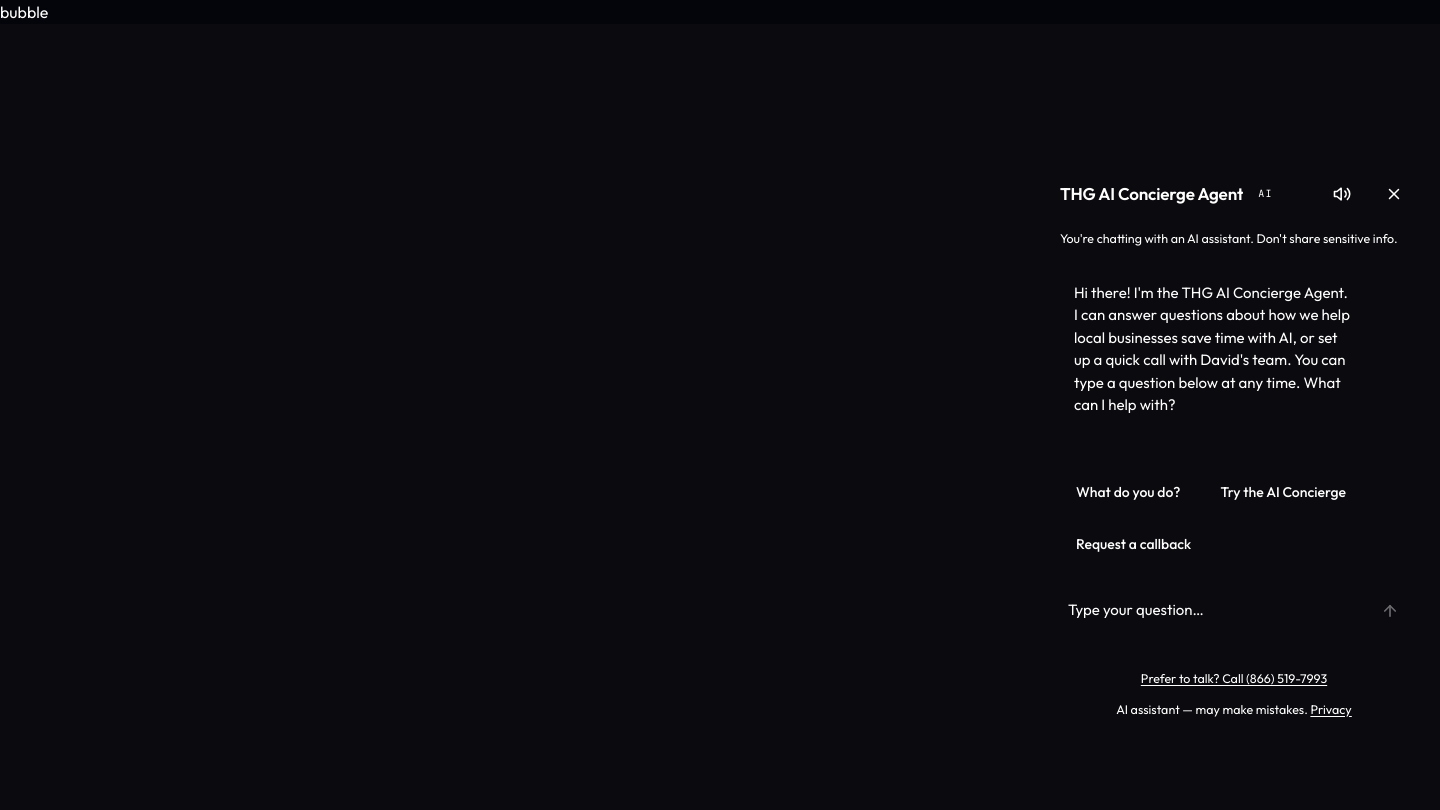
Test: ChatPanel voice: the cap on spoken replies › says how many replies the Worker named, in the notice and in the form
Type "hello" into the text box named "Message" at (1208, 610), box x1=1056 y1=588 x2=1360 y2=632
Then press Enter
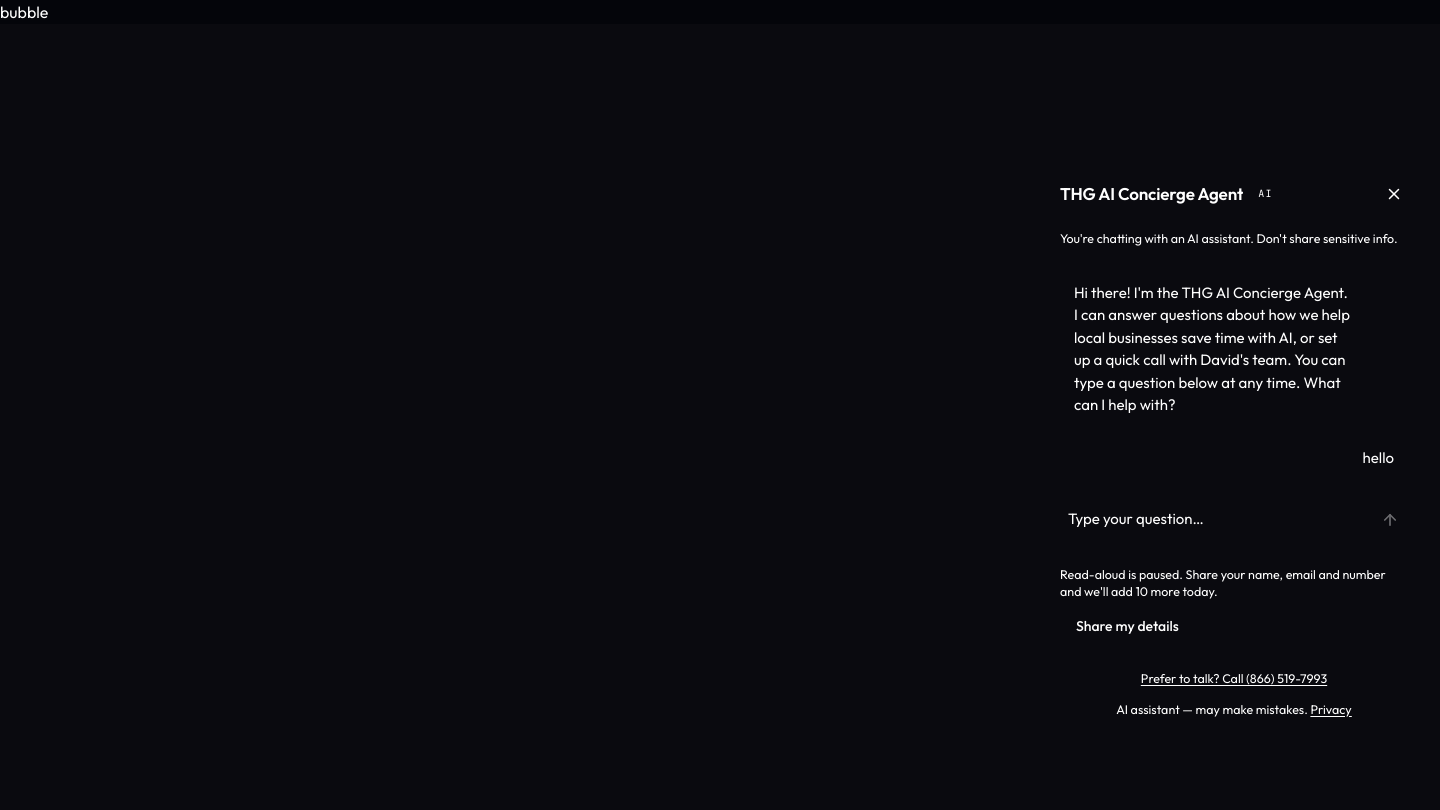
Check: the text "we'll add 10 more today" is shown, box x1=1060 y1=566 x2=1386 y2=599
Click the button "Share my details" at (1127, 626), box x1=1060 y1=604 x2=1195 y2=648
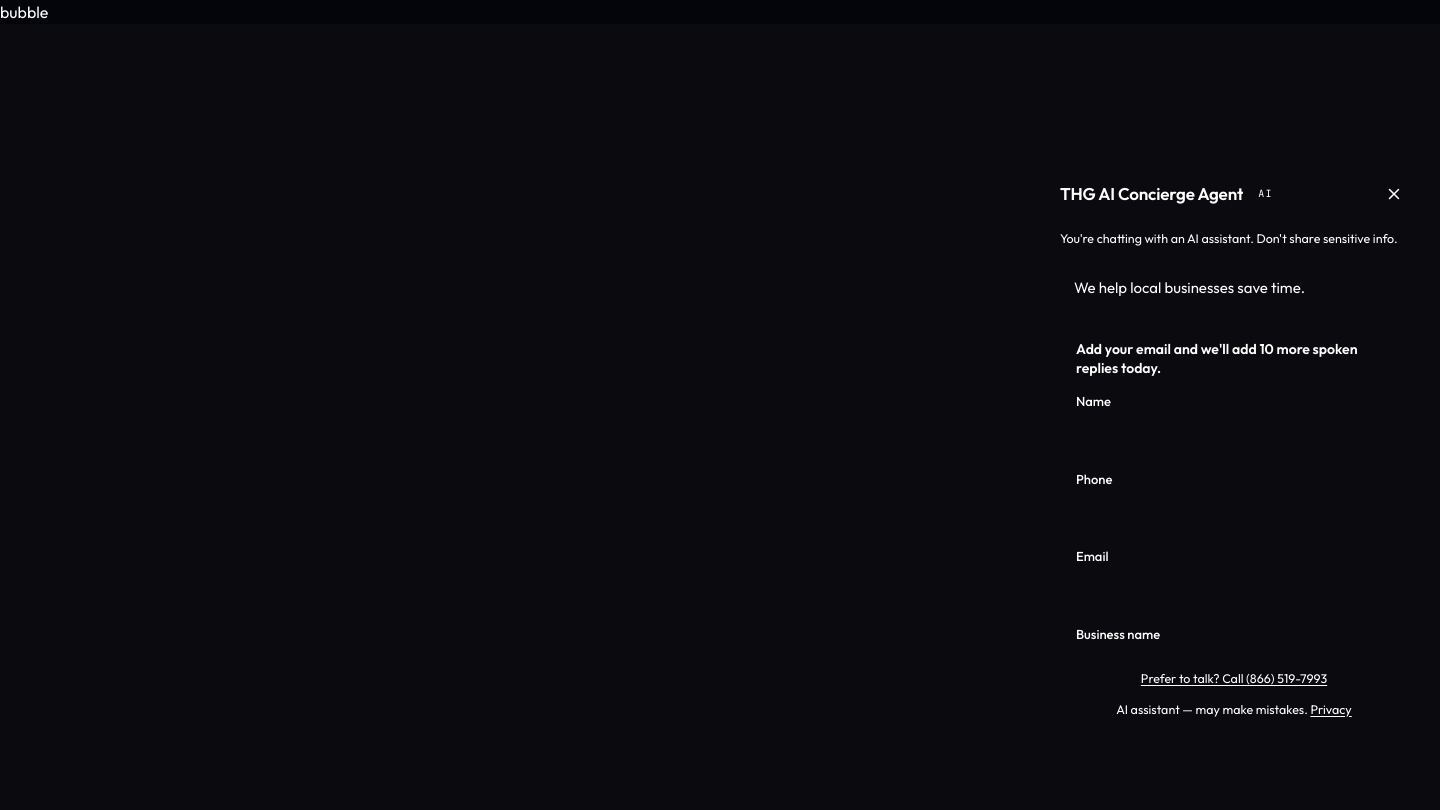
Check: the text "Add your email and we'll add 10 more spoken replies today." is shown, box x1=1076 y1=340 x2=1392 y2=379
